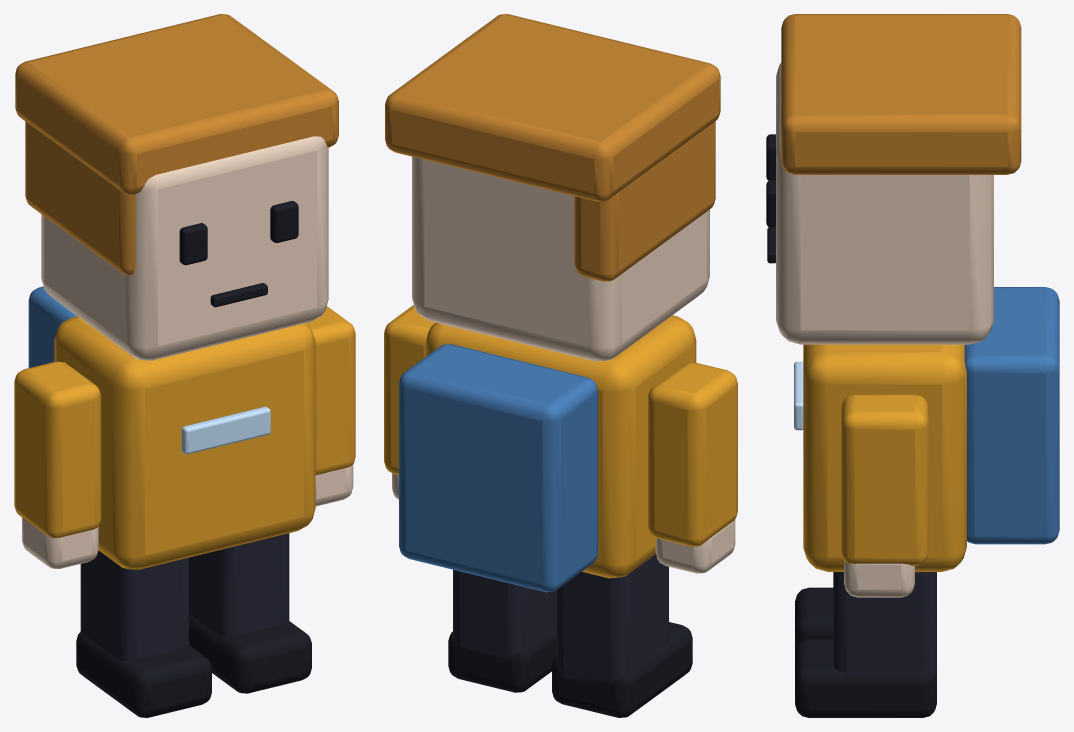
The model's file is intern.glb.
The picture shows the model from 3 angles, left to right: view 1: azimuth 30°, elevation 25°; view 2: azimuth 150°, elevation 25°; view 3: azimuth 270°, elevation 25°; orthographic projection. The views are drawn at different scales.
Parts seen in each view (by area): view 1: Jacket, Face, Hair, Arm_L_sleeve, Leg_L_trouser, HairSide, Leg_R_trouser, Leg_L_shoe, Arm_R_sleeve, Leg_R_shoe, ChestBadge, Arm_L_hand (+5 smaller); view 2: Backpack, Hair, Face, Jacket, Arm_L_sleeve, HairSide, Leg_L_trouser, Leg_R_trouser, Leg_L_shoe, Leg_R_shoe, Arm_R_sleeve, Arm_L_hand; view 3: Hair, Face, Backpack, Jacket, Arm_R_sleeve, Leg_R_trouser, Leg_R_shoe, Arm_R_hand, Leg_L_shoe, ChestBadge.
Boxes of the visible parts, bbox=[...] form: Jacket: bbox=[54, 316, 315, 569]; Face: bbox=[41, 136, 328, 360]; Hair: bbox=[15, 14, 338, 194]; Arm_L_sleeve: bbox=[14, 361, 101, 538]; Leg_L_trouser: bbox=[80, 550, 189, 661]; HairSide: bbox=[25, 121, 135, 275]; Leg_R_trouser: bbox=[189, 533, 289, 636]; Leg_L_shoe: bbox=[76, 631, 211, 717]; Arm_R_sleeve: bbox=[306, 306, 355, 475]; Leg_R_shoe: bbox=[189, 614, 311, 693]; ChestBadge: bbox=[181, 406, 270, 454]; Arm_L_hand: bbox=[22, 517, 98, 568]; Backpack: bbox=[399, 344, 597, 592]; Hair: bbox=[385, 14, 720, 201]; Face: bbox=[412, 156, 709, 361]; Jacket: bbox=[425, 315, 696, 578]; Arm_L_sleeve: bbox=[648, 362, 737, 546]; HairSide: bbox=[574, 121, 715, 281]; Leg_L_trouser: bbox=[556, 554, 668, 685]; Leg_R_trouser: bbox=[453, 569, 556, 663]; Leg_L_shoe: bbox=[552, 622, 692, 717]; Leg_R_shoe: bbox=[448, 624, 556, 692]; Arm_R_sleeve: bbox=[384, 305, 435, 475]; Arm_L_hand: bbox=[655, 519, 735, 573]; Hair: bbox=[781, 14, 1021, 174]; Face: bbox=[776, 63, 993, 344]; Backpack: bbox=[964, 287, 1059, 544]; Jacket: bbox=[803, 344, 966, 571]; Arm_R_sleeve: bbox=[841, 394, 928, 565]; Leg_R_trouser: bbox=[833, 572, 936, 676]; Leg_R_shoe: bbox=[795, 638, 936, 717]; Arm_R_hand: bbox=[844, 560, 914, 597]; Leg_L_shoe: bbox=[795, 587, 833, 651]; ChestBadge: bbox=[794, 361, 803, 430].
Bounding box in the file's own units: 0.68 × 1.24 × 0.5375.
